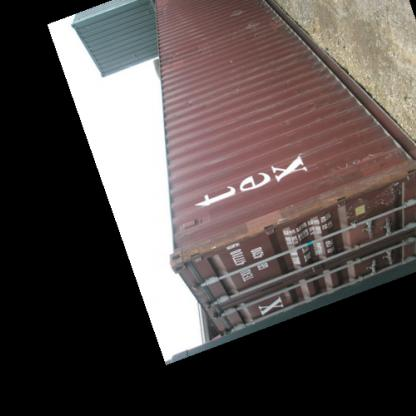Damage: (272, 152, 394, 228), (180, 217, 246, 269), (245, 101, 292, 120), (177, 77, 197, 118), (234, 14, 256, 42), (263, 10, 282, 40), (180, 38, 202, 58)
